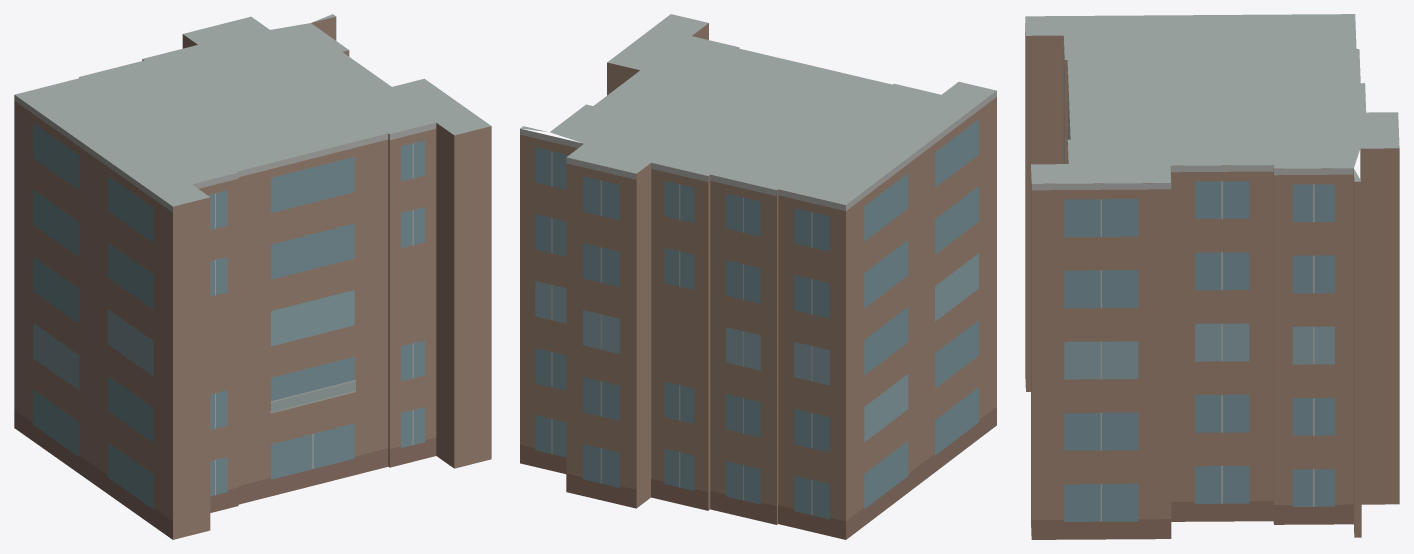
File: survey-upis-32560168.glb
3 renders of one model, left to right at view 1: azimuth 30°, elevation 25°; view 2: azimuth 150°, elevation 25°; view 3: azimuth 270°, elevation 25°, orthographic. The views are drawn at different scales.
Parts seen in each view (by area): view 1: survey-upis-32560168.tmp; view 2: survey-upis-32560168.tmp; view 3: survey-upis-32560168.tmp.
Boxes of the visible parts, box(x1,y1,x2,y2) form: survey-upis-32560168.tmp: box(14, 14, 491, 539); survey-upis-32560168.tmp: box(520, 14, 996, 539); survey-upis-32560168.tmp: box(1025, 14, 1399, 539).
Size of the model in its own units: 13.87 by 13.55 by 12.92.
